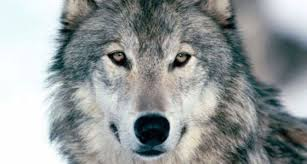Lobo: (52, 2, 267, 163)
